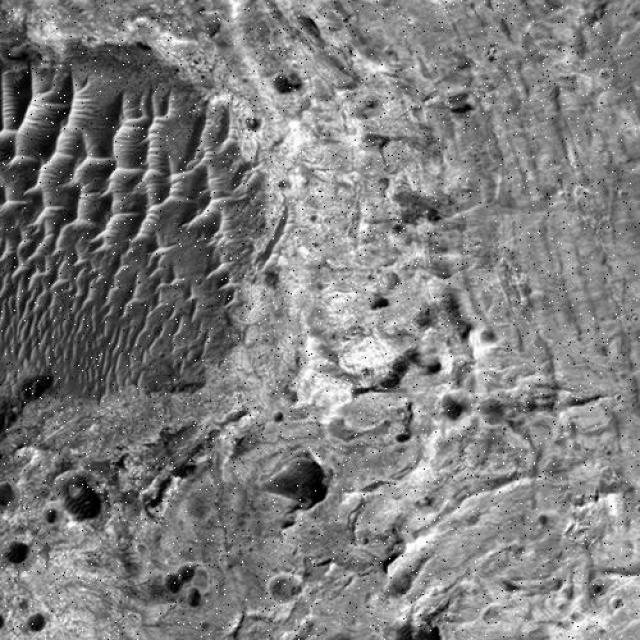crater: (38, 457, 112, 530), (418, 374, 487, 432), (242, 558, 316, 608), (246, 604, 338, 640), (27, 603, 114, 640), (8, 595, 70, 640), (600, 52, 640, 120), (0, 528, 45, 576), (0, 473, 33, 523), (606, 0, 640, 36), (0, 594, 12, 640)
